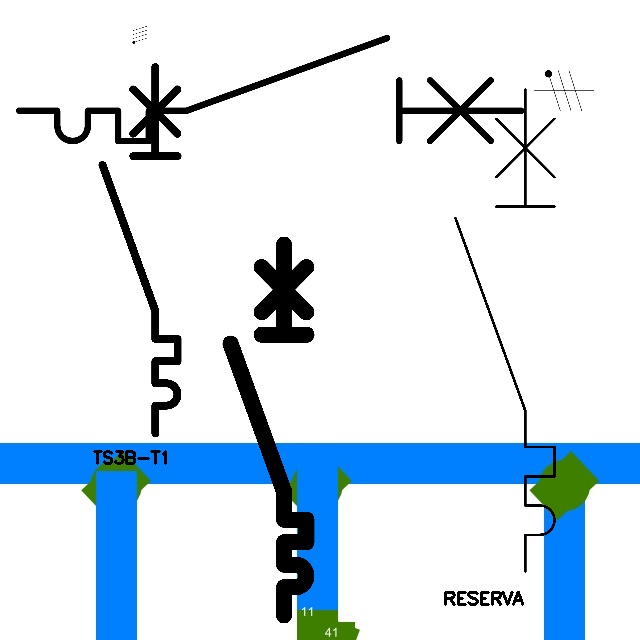interruptor_termomagnetico: (6, 25, 534, 154), (443, 77, 567, 584), (221, 235, 316, 625), (93, 57, 187, 442)
